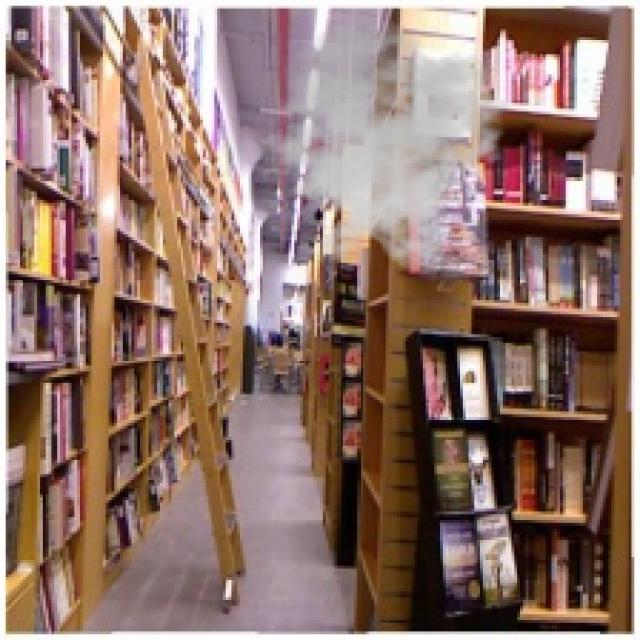smoke: (243, 17, 514, 274)
